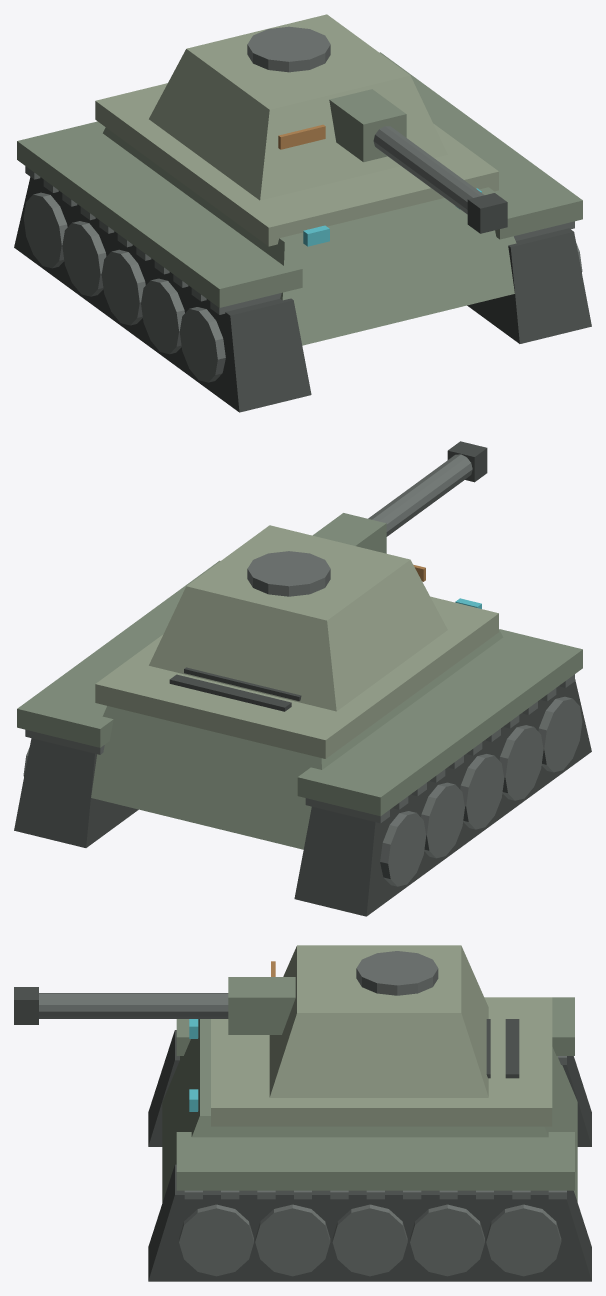
File: light_tank.glb
3 views of the same model, one above another, from view 1: azimuth 30°, elevation 25°; view 2: azimuth 150°, elevation 25°; view 3: azimuth 270°, elevation 25° (orthographic).
Visible parts, largest first — view 1: Hull, Tracks, Turret, Barrel; view 2: Hull, Turret, Tracks, Barrel; view 3: Hull, Tracks, Turret, Barrel.
Boxes of the visible parts, x1,y1,x2,y2 form: Hull: (17, 52, 582, 345); Tracks: (14, 166, 591, 412); Turret: (149, 14, 447, 200); Barrel: (329, 89, 507, 233); Hull: (17, 560, 582, 849); Turret: (149, 525, 447, 711); Tracks: (14, 674, 591, 916); Barrel: (312, 441, 487, 553); Hull: (162, 997, 577, 1202); Tracks: (148, 1030, 591, 1281); Turret: (269, 945, 488, 1097); Barrel: (14, 977, 295, 1034).
Size of the model in its own units: 3.64 by 2.22 by 5.08.
